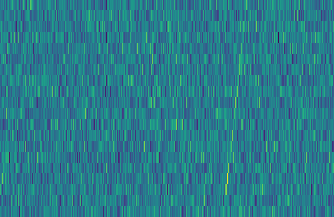signal: (220, 0, 253, 217)
